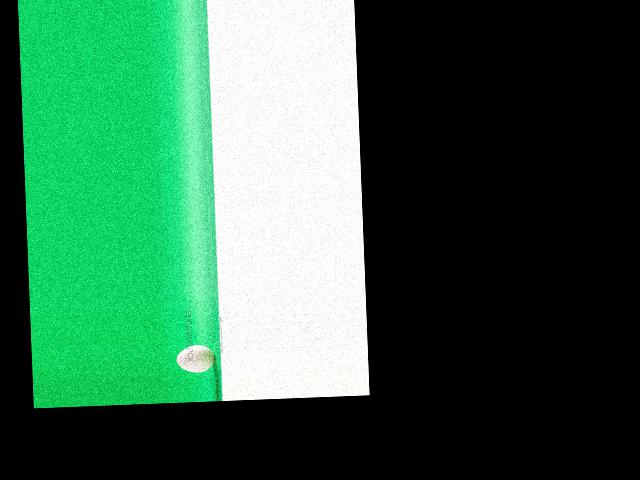egg: (176, 344, 216, 373)
